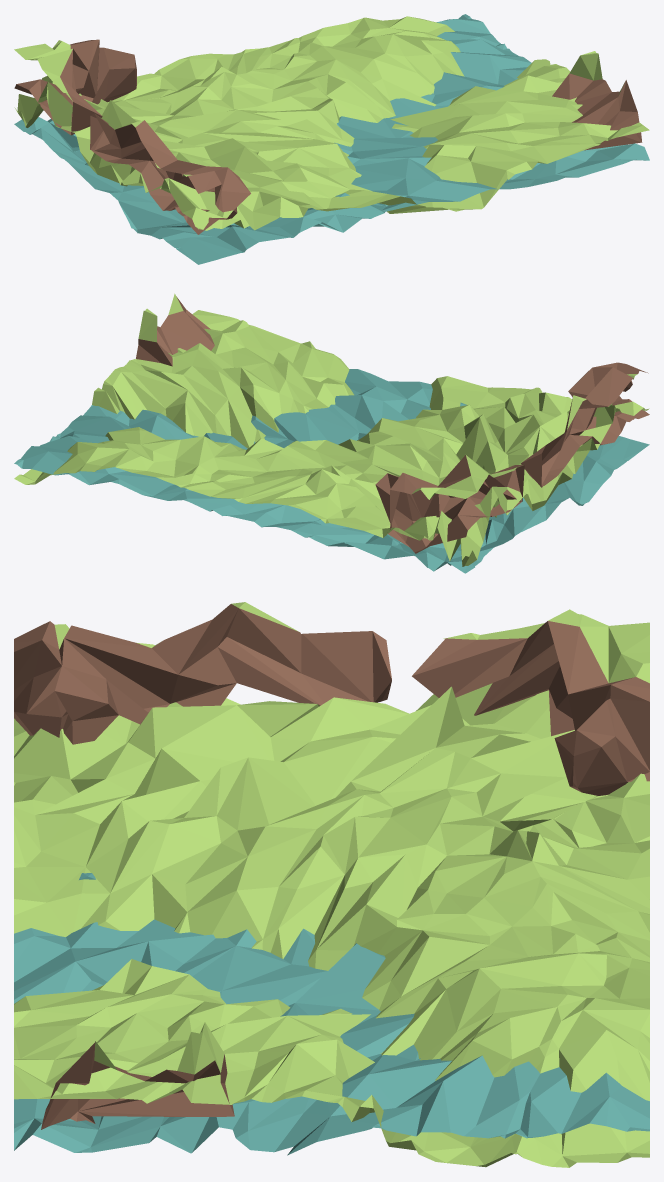
Rendered from RG_Terrain-Mesh-09.fbx.
3 views of the same model, one above another, from view 1: azimuth 30°, elevation 25°; view 2: azimuth 150°, elevation 25°; view 3: azimuth 270°, elevation 25° (orthographic). The views are drawn at different scales.
Visible parts, largest first — view 1: RG_Terrain-Mesh-09; view 2: RG_Terrain-Mesh-09; view 3: RG_Terrain-Mesh-09.
Part boxes in pixels (box(x1,y1,x2,y2)): RG_Terrain-Mesh-09: box(14, 14, 649, 264); RG_Terrain-Mesh-09: box(14, 293, 649, 573); RG_Terrain-Mesh-09: box(14, 602, 649, 1167).
Bounding box in the file's own units: 156 × 37.86 × 110.
